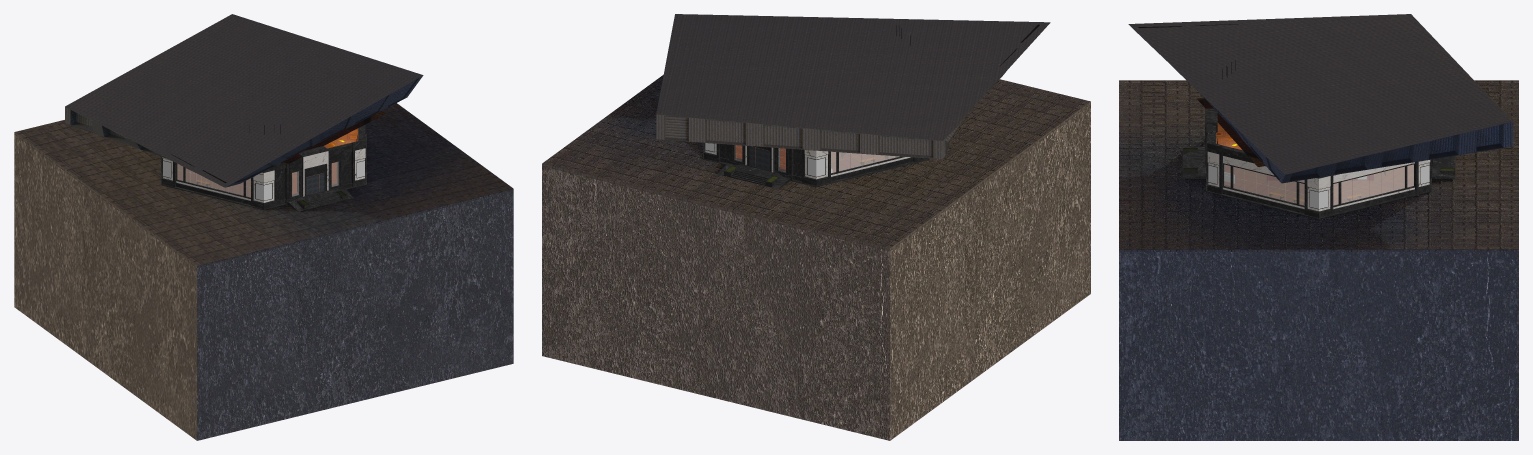
The model's file is yay.glb.
3 renders of one model, left to right at view 1: azimuth 30°, elevation 25°; view 2: azimuth 150°, elevation 25°; view 3: azimuth 270°, elevation 25°, orthographic. The views are drawn at different scales.
Parts seen in each view (by area): view 1: GROUND.002, BUBONG.001, GROUND.001, BAKAL-WALL.002, WALL.001, FLOOR.002, WINDOW_GLASS.002, BUBONG.003, SIDE-GLASS.001; view 2: GROUND.002, BUBONG.001, GROUND.001, BAKAL-WALL.002, FLOOR.002, WINDOW_GLASS.002, WALL.001; view 3: GROUND.002, BUBONG.001, GROUND.001, BAKAL-WALL.002, WINDOW_GLASS.002, FLOOR.002, WALL.001, SIDE-GLASS.001, BUBONG.003.
Part boxes in pixels (bbox=[...]): GROUND.002: bbox=[14, 135, 513, 440]; BUBONG.001: bbox=[65, 14, 423, 187]; GROUND.001: bbox=[14, 103, 513, 268]; BAKAL-WALL.002: bbox=[161, 124, 366, 211]; WALL.001: bbox=[162, 148, 365, 202]; FLOOR.002: bbox=[177, 162, 337, 196]; WINDOW_GLASS.002: bbox=[177, 163, 250, 197]; BUBONG.003: bbox=[281, 111, 386, 164]; SIDE-GLASS.001: bbox=[163, 161, 364, 200]; GROUND.002: bbox=[542, 104, 1090, 440]; BUBONG.001: bbox=[656, 14, 1050, 159]; GROUND.001: bbox=[542, 75, 1090, 250]; BAKAL-WALL.002: bbox=[703, 143, 929, 188]; FLOOR.002: bbox=[735, 145, 896, 172]; WINDOW_GLASS.002: bbox=[831, 151, 899, 173]; WALL.001: bbox=[705, 143, 910, 179]; GROUND.002: bbox=[1119, 252, 1518, 440]; BUBONG.001: bbox=[1128, 14, 1513, 183]; GROUND.001: bbox=[1119, 80, 1518, 251]; BAKAL-WALL.002: bbox=[1182, 108, 1455, 218]; WINDOW_GLASS.002: bbox=[1224, 164, 1413, 205]; FLOOR.002: bbox=[1225, 165, 1413, 204]; WALL.001: bbox=[1207, 151, 1430, 211]; SIDE-GLASS.001: bbox=[1208, 165, 1429, 208]; BUBONG.003: bbox=[1197, 97, 1265, 166].
Size of the model in its own units: 64.45 by 48.57 by 64.45.
33 materials, 23 textured.
